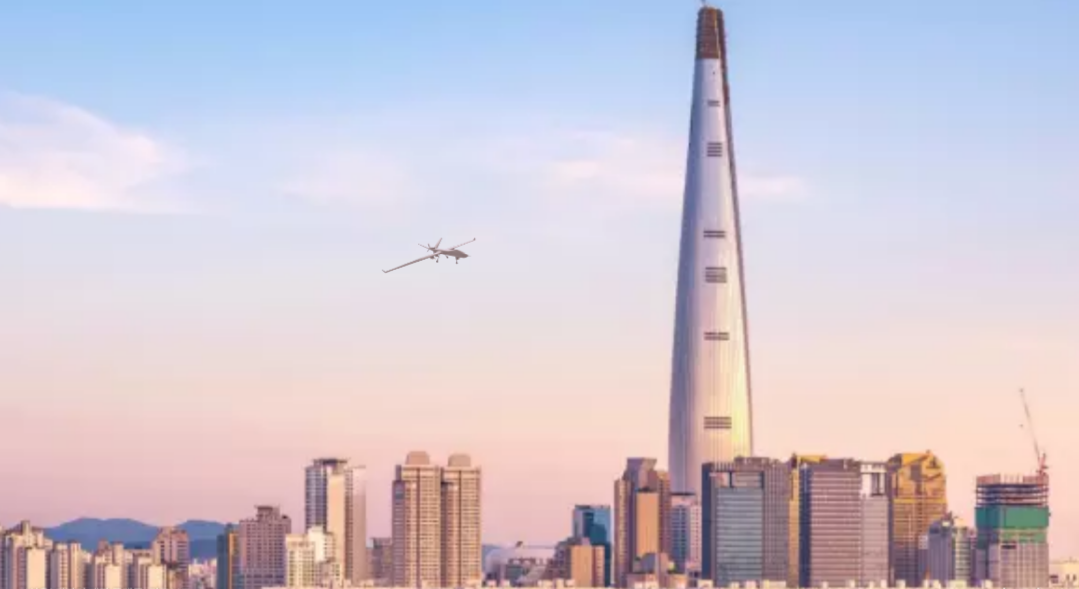military drone: (381, 237, 475, 273)
